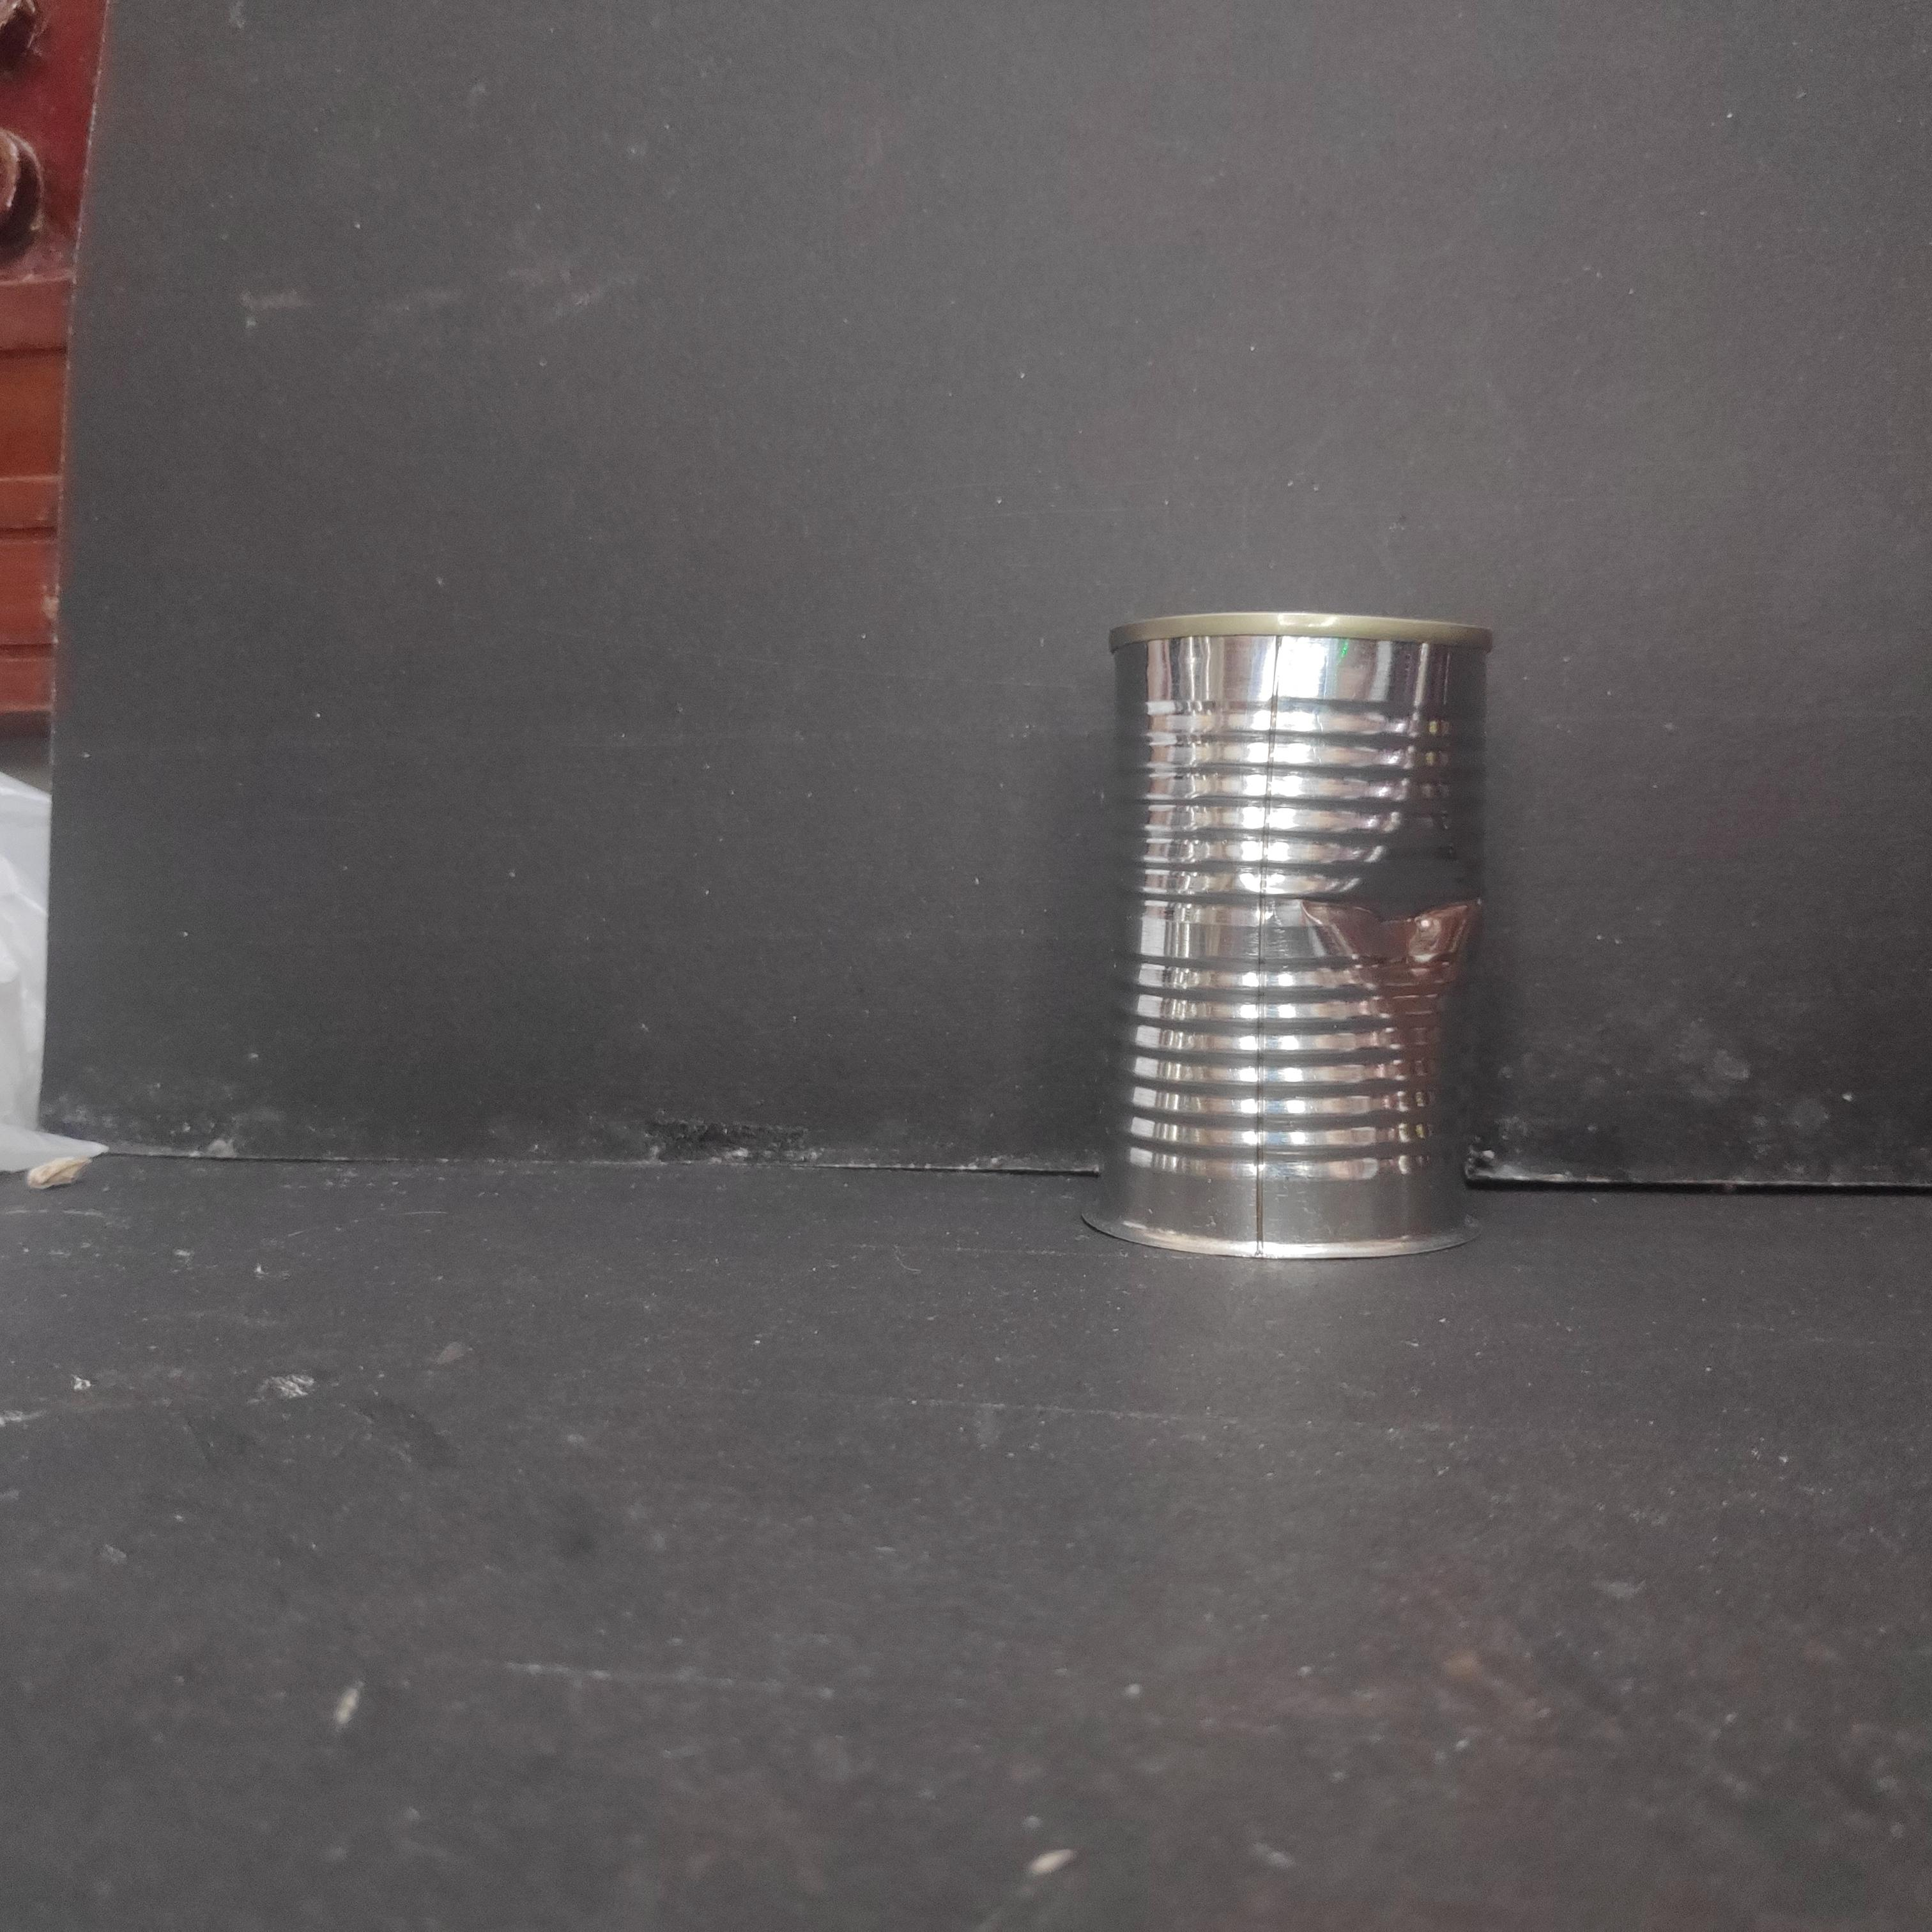Minor Defect: (1093, 591, 1502, 1281)
